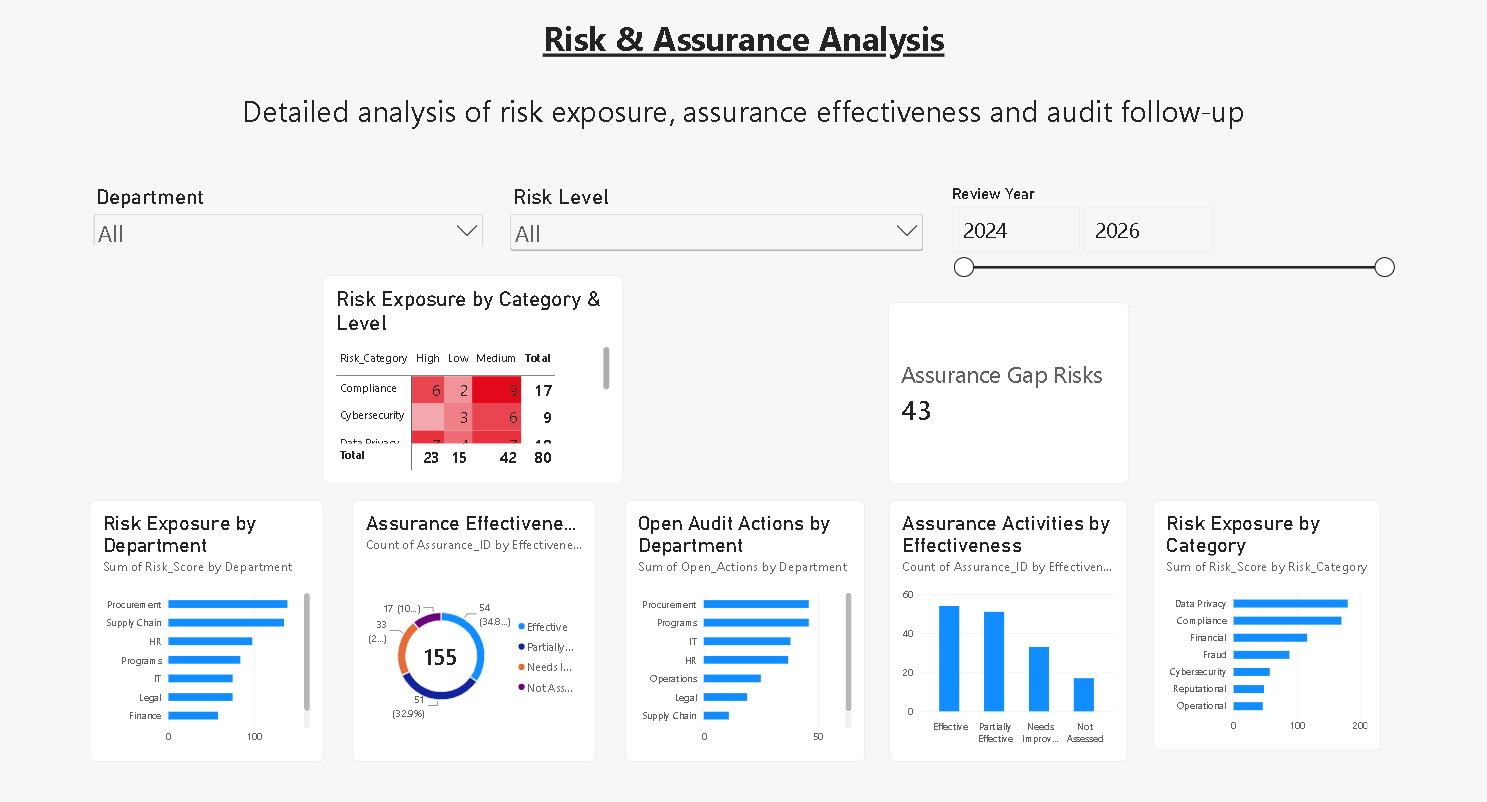

Layout of this report page (visuals, bound fields, positions):
{"tool":"powerbi","page":{"name":"Risk & Assurance Analysis","canvas":[1920,1080],"ordinal":1},"visuals":[{"type":"pivotTable","title":"Risk Exposure by Category & Level","fields":{"Columns":["Risks.Risk_Level"],"Rows":["Risks.Risk_Category"],"Values":["CountNonNull(Risks.Risk_ID)"]},"box":[418,376,386,268],"z":0},{"type":"clusteredBarChart","title":"Risk Exposure by Department","fields":{"Category":["Risks.Department"],"Y":["Sum(Risks.Risk_Score)"]},"box":[118,664,300,336],"z":1000},{"type":"donutChart","title":"Assurance Effectiveness","fields":{"Category":["Assurance.Effectiveness"],"Y":["CountNonNull(Assurance.Assurance_ID)"]},"box":[456,664,312,336],"z":2000},{"type":"clusteredBarChart","title":"Open Audit Actions by Department","fields":{"Category":["Audits.Department"],"Y":["Sum(Audits.Open_Actions)"]},"box":[806,664,308,336],"z":3000},{"type":"clusteredColumnChart","title":"Assurance Activities by Effectiveness","fields":{"Category":["Assurance.Effectiveness"],"Y":["CountNonNull(Assurance.Assurance_ID)"]},"box":[1146,664,306,336],"z":4000},{"type":"clusteredBarChart","title":"Risk Exposure by Category","fields":{"Category":["Risks.Risk_Category"],"Y":["Sum(Risks.Risk_Score)"]},"box":[1484,664,292,322],"z":5000},{"type":"slicer","fields":{"Values":["Risks.Department"]},"box":[118,260,510,78],"z":6000},{"type":"slicer","title":"Risk Level","fields":{"Values":["Risks.Risk_Level"]},"box":[654,260,540,94],"z":7000},{"type":"slicer","title":"Review Year","fields":{"Values":["Risks.Review_Year"]},"box":[1218,260,580,152],"z":8000},{"type":"cardVisual","fields":{"Data":["Assurance.Assurance Gap Risks"]},"box":[299.5,709.6,310,233.3],"z":9000},{"type":"textbox","box":[117.5,42.5,1680,95],"z":10000},{"type":"textbox","box":[117.5,137.5,1680,90],"z":11000}]}

Visuals, with their boxes on the page's 1920x1080 design canvas (x1, y1, x2, y2). These are canvas units, not pixel positions in the 1487x802 screenshot, which may show the page scaled, cropped or inside an application window:
"Risk Exposure by Category & Level" pivotTable: (418,376,804,644)
"Risk Exposure by Department" clusteredBarChart: (118,664,418,1000)
"Assurance Effectiveness" donutChart: (456,664,768,1000)
"Open Audit Actions by Department" clusteredBarChart: (806,664,1114,1000)
"Assurance Activities by Effectiveness" clusteredColumnChart: (1146,664,1452,1000)
"Risk Exposure by Category" clusteredBarChart: (1484,664,1776,986)
slicer - Risks.Department: (118,260,628,338)
"Risk Level" slicer: (654,260,1194,354)
"Review Year" slicer: (1218,260,1798,412)
cardVisual - Assurance.Assurance Gap Risks: (300,710,610,943)
textbox: (118,42,1798,138)
textbox: (118,138,1798,228)
